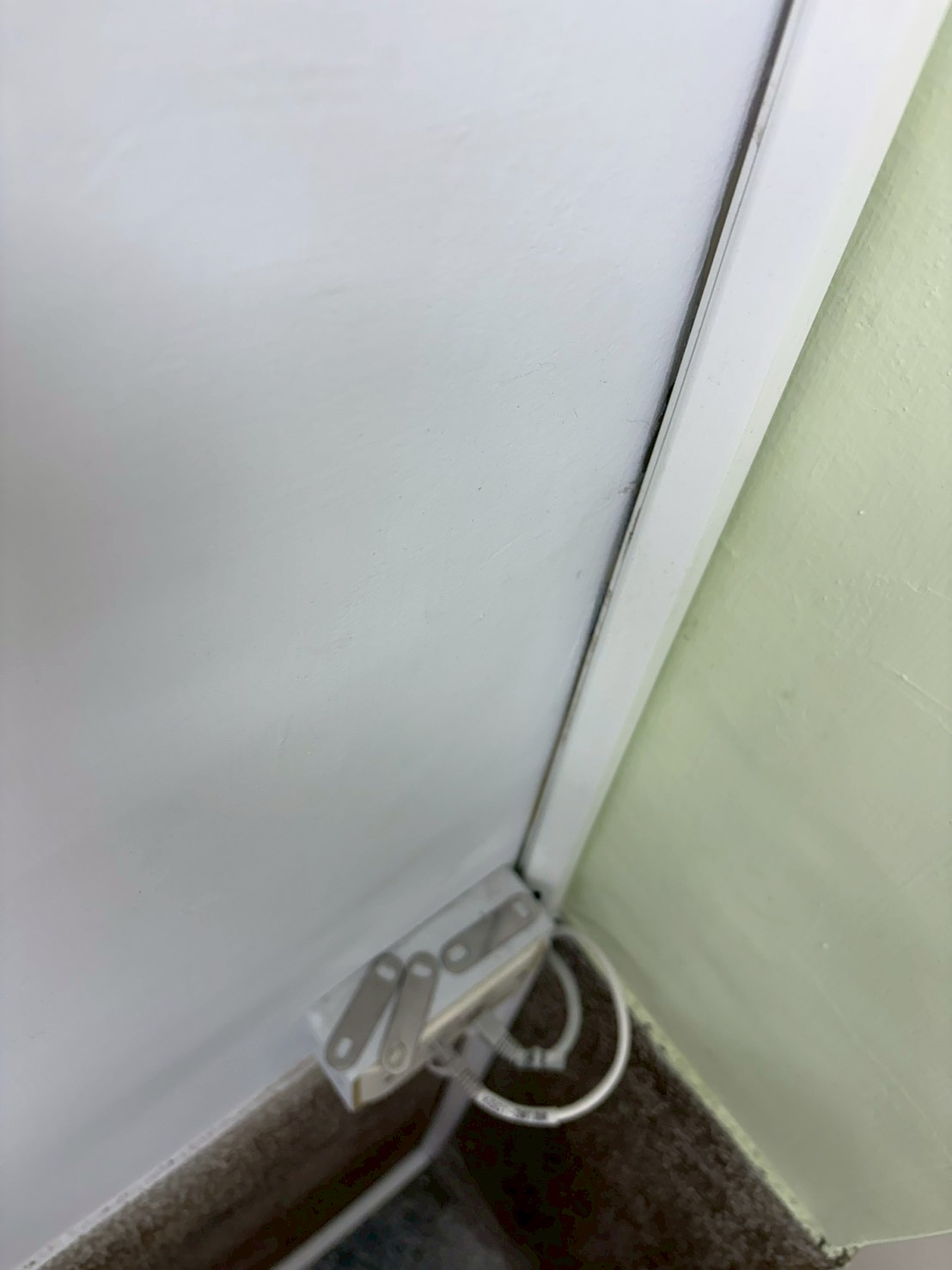Fe: (416, 884, 549, 983), (383, 933, 454, 1092), (316, 941, 402, 1066)
